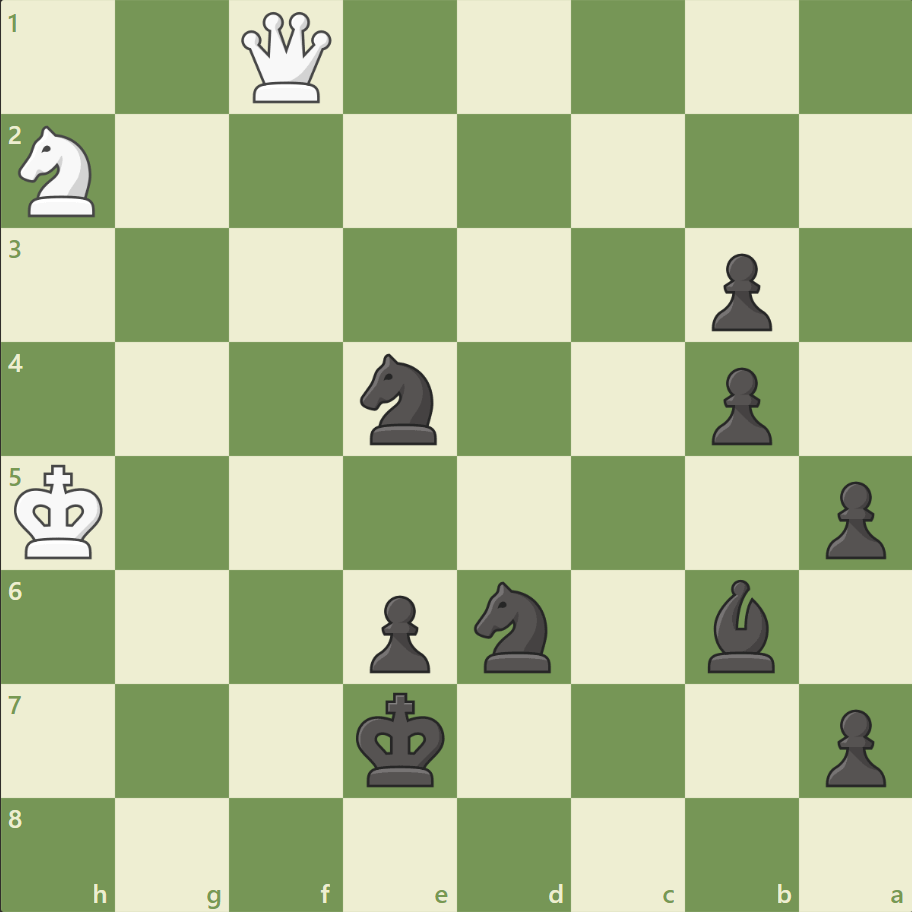K: (11, 458, 111, 566)
N: (11, 121, 108, 223)
Q: (237, 9, 336, 108)
b: (698, 574, 782, 676)
k: (351, 685, 451, 793)
n: (351, 348, 449, 450), (465, 575, 562, 677)
p: (701, 359, 776, 450), (701, 246, 776, 337), (815, 700, 889, 791), (361, 586, 435, 677), (815, 473, 889, 564)
